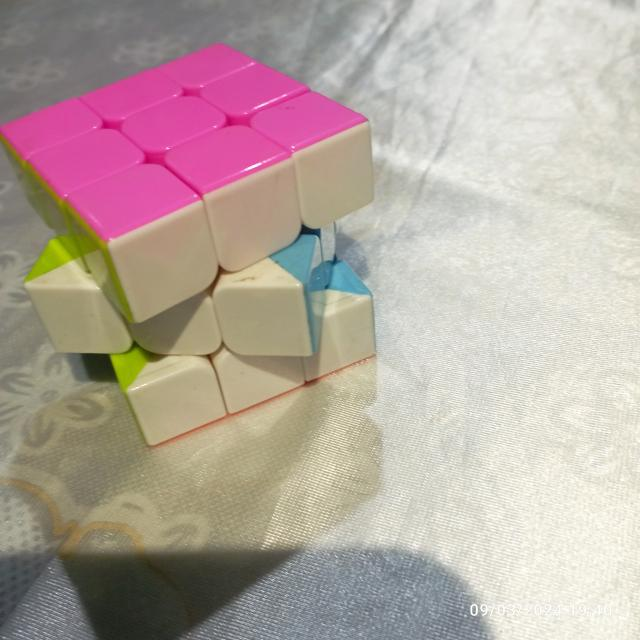Rub: (0, 38, 382, 452)
